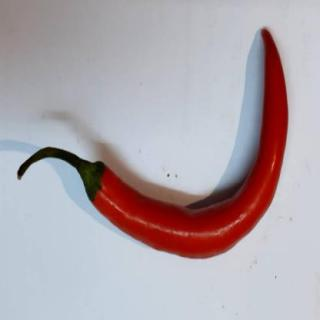Cabai Merah: (18, 27, 290, 260)
